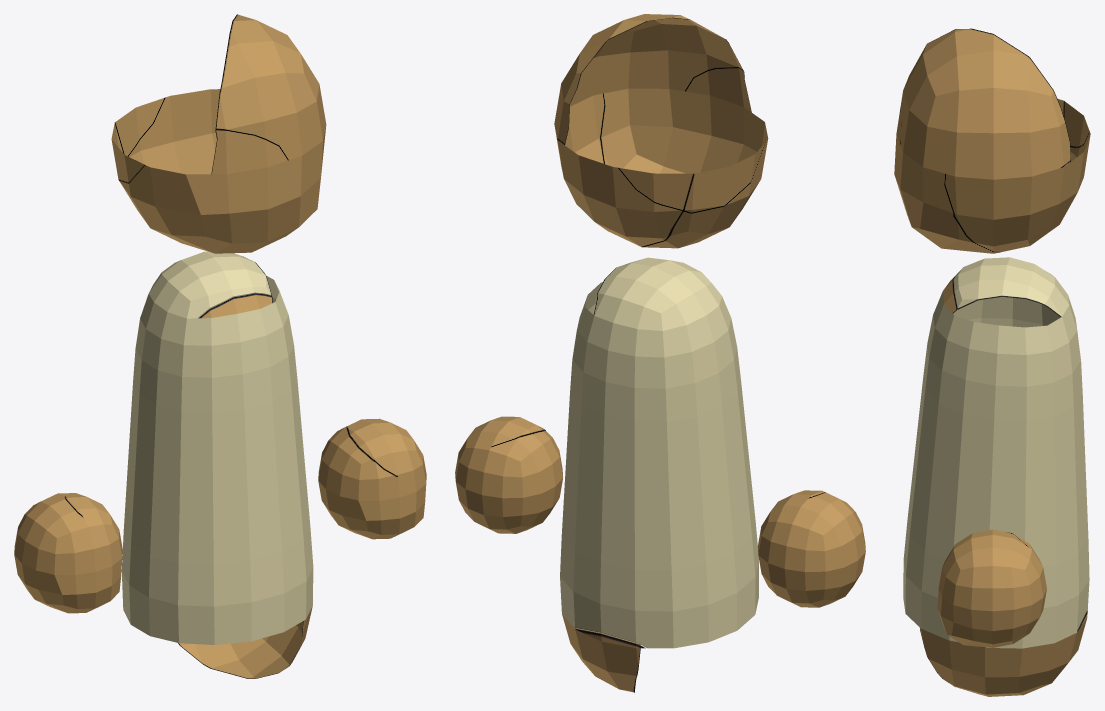
File: mii.fbx
The picture shows the model from 3 angles, left to right: view 1: azimuth 30°, elevation 25°; view 2: azimuth 150°, elevation 25°; view 3: azimuth 270°, elevation 25°; orthographic projection.
Visible parts, largest first — view 1: Mi; view 2: Mi; view 3: Mi.
Boxes of the visible parts, left/top/right/bottom form: Mi: left=14, top=14, right=426, bottom=678; Mi: left=455, top=14, right=865, bottom=692; Mi: left=894, top=28, right=1090, bottom=696.
Bounding box in the file's own units: 1.26 × 2.01 × 0.5408.
